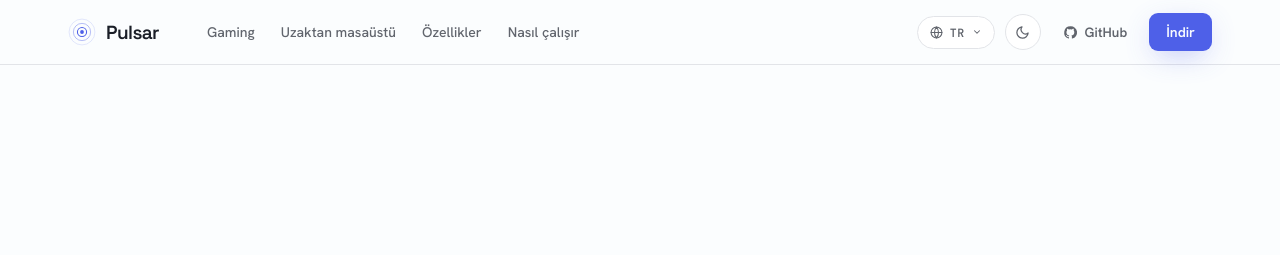
Test case: SiteHeader › opens the language menu with all four options
Click the button with aria-label "Dil / Language".
click(956, 32)  # box [917,16,994,48]
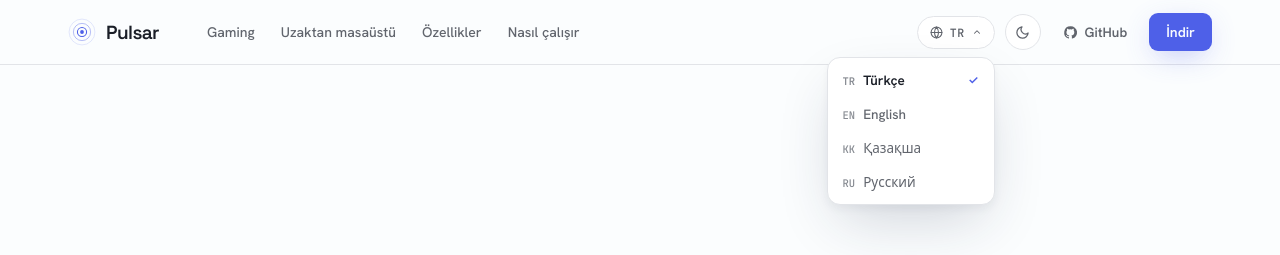
expect the text "Türkçe" is shown: met, box [863,70,905,88]
expect the text "English" is shown: met, box [863,104,906,122]
expect the text "Қазақша" is shown: met, box [863,138,921,156]
